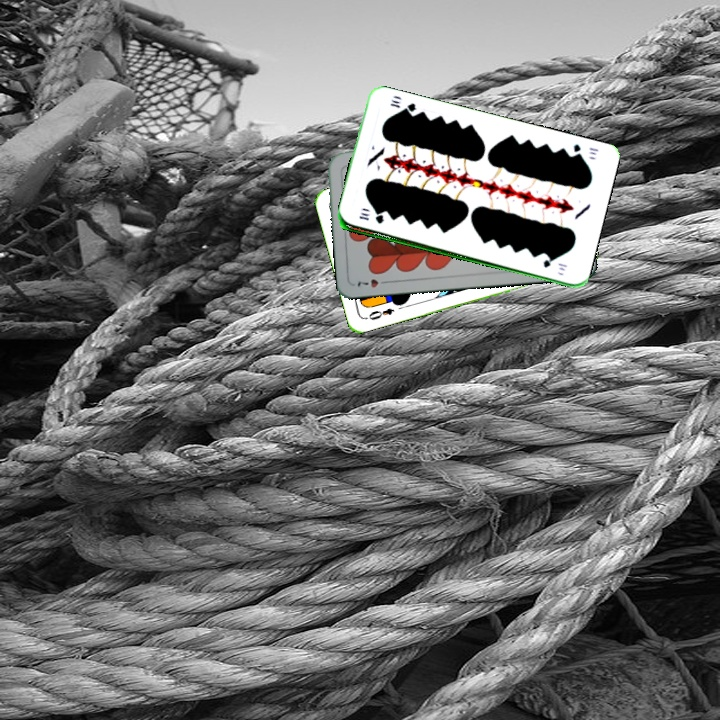EO: (362, 304, 397, 323)
G10: (568, 140, 601, 161), (355, 209, 386, 226)
H7: (352, 275, 392, 290)
